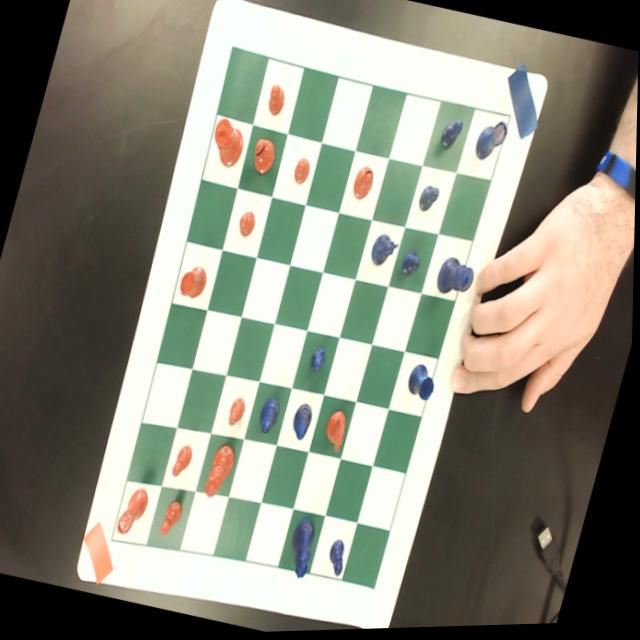B: (256, 396, 284, 439), (290, 401, 317, 445)
K: (434, 257, 479, 305)
N: (366, 228, 402, 274)
P: (325, 540, 353, 581), (437, 116, 465, 156), (417, 185, 443, 219), (399, 250, 425, 283), (307, 344, 330, 379)
Q: (284, 517, 323, 584)
R: (472, 120, 511, 168), (404, 365, 441, 409)
b: (248, 137, 280, 179), (351, 167, 377, 204)
k: (206, 118, 250, 173)
n: (320, 409, 353, 458)
p: (160, 499, 187, 541), (172, 444, 197, 482), (264, 83, 289, 120), (227, 397, 250, 430), (236, 210, 259, 241), (291, 158, 313, 190)
q: (204, 443, 240, 504)
r: (117, 485, 153, 540), (178, 263, 210, 303)
